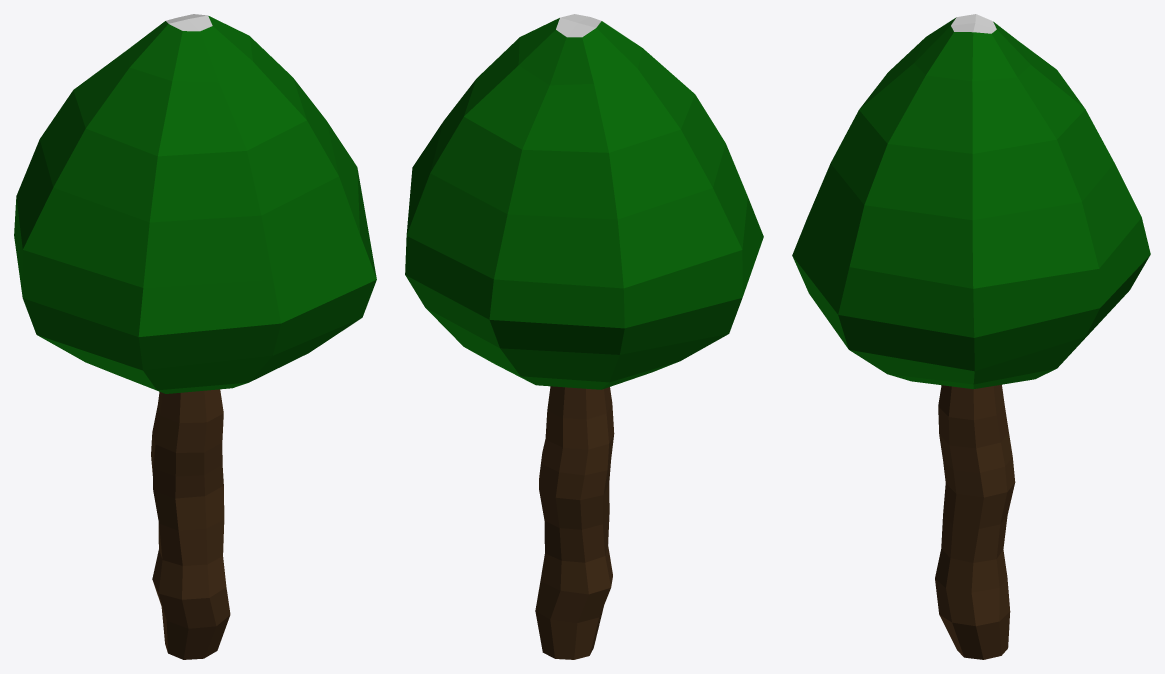
The model's file is Arbol1.fbx.
The picture shows the model from 3 angles, left to right: view 1: azimuth 30°, elevation 25°; view 2: azimuth 150°, elevation 25°; view 3: azimuth 270°, elevation 25°; orthographic projection.
Visible parts, largest first — view 1: Arbol1:Mesh; view 2: Arbol1:Mesh; view 3: Arbol1:Mesh.
Boxes of the visible parts, box(x1,y1,x2,y2) form: Arbol1:Mesh: box(14, 14, 376, 659); Arbol1:Mesh: box(405, 14, 763, 659); Arbol1:Mesh: box(792, 14, 1150, 659).
Bounding box in the file's own units: 21.93 × 39.77 × 20.7.
